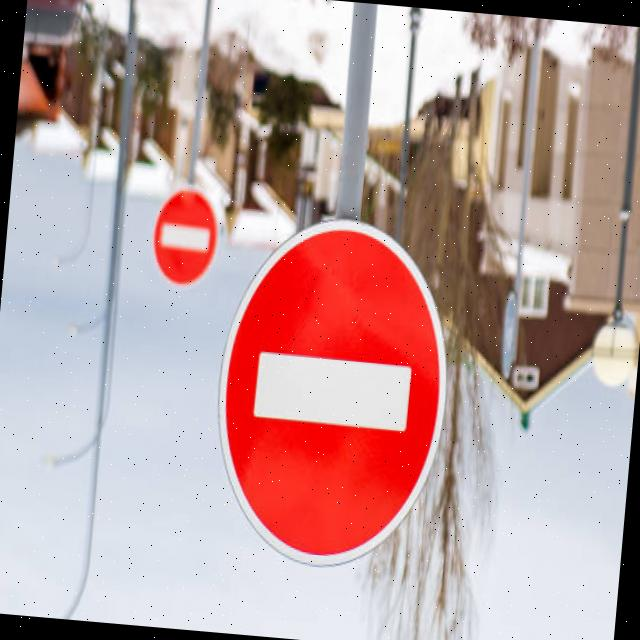do_not_enter: (199, 200, 467, 590), (135, 178, 226, 294)
